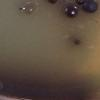black: (79, 1, 99, 14), (62, 4, 80, 18), (70, 0, 98, 5), (72, 38, 82, 48)
